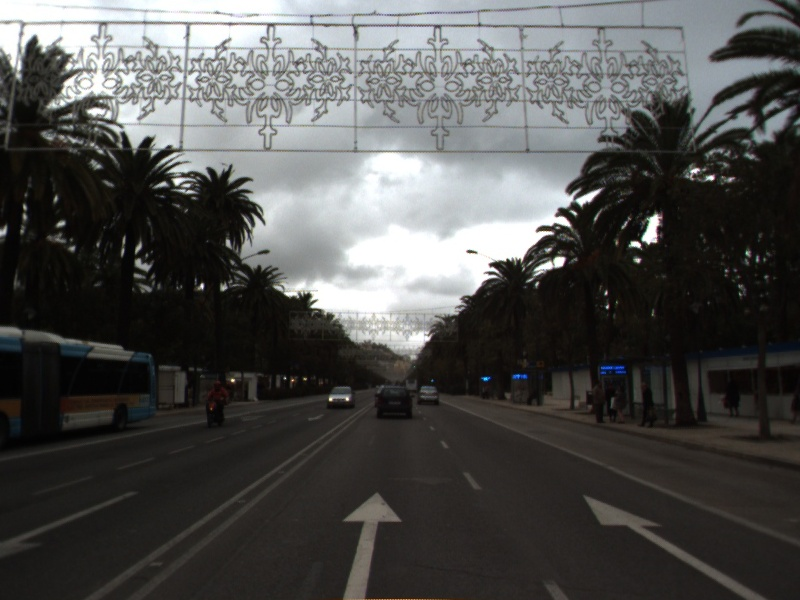STRAIGHT: (579, 490, 770, 600), (338, 488, 405, 600)
